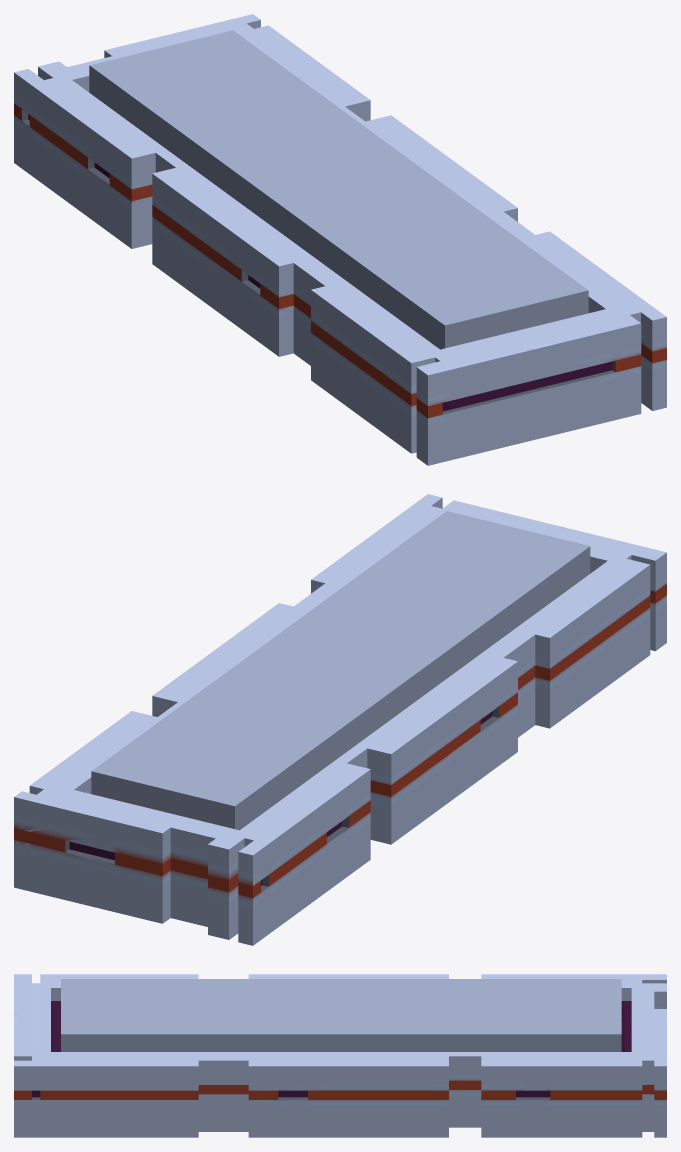
Rendered from Bridge_3.fbx.
The picture shows the model from 3 angles, top to bottom: view 1: azimuth 30°, elevation 25°; view 2: azimuth 150°, elevation 25°; view 3: azimuth 270°, elevation 25°; orthographic projection. The views are drawn at different scales.
Visible parts, largest first — view 1: Cube.034; view 2: Cube.034; view 3: Cube.034.
Part boxes in pixels (bbox=[...]): Cube.034: bbox=[14, 14, 666, 465]; Cube.034: bbox=[14, 494, 666, 945]; Cube.034: bbox=[14, 974, 666, 1137].
Size of the model in its own units: 100 by 42.86 by 300.
